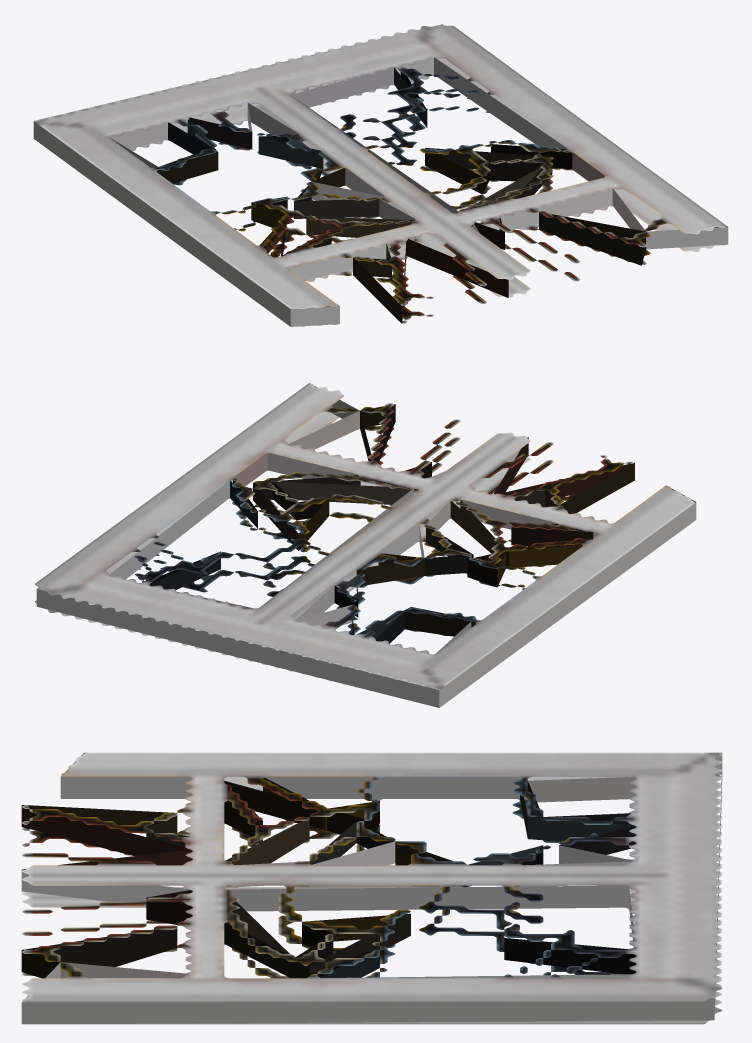
The model's file is pz_native_location_community_church_small_01_81_frame.obj.
3 views of the same model, one above another, from view 1: azimuth 30°, elevation 25°; view 2: azimuth 150°, elevation 25°; view 3: azimuth 270°, elevation 25° (orthographic). The views are drawn at different scales.
Visible parts, largest first — view 1: pz_native_location_community_church_small_01_81_frame; view 2: pz_native_location_community_church_small_01_81_frame; view 3: pz_native_location_community_church_small_01_81_frame.
Boxes of the visible parts, x1,y1,x2,y2 form: pz_native_location_community_church_small_01_81_frame: (33,24,728,326); pz_native_location_community_church_small_01_81_frame: (35,383,696,707); pz_native_location_community_church_small_01_81_frame: (21,752,722,1024).
Bounding box in the file's own units: 1.02 × 0.04 × 1.19.
1 material, 1 textured.
